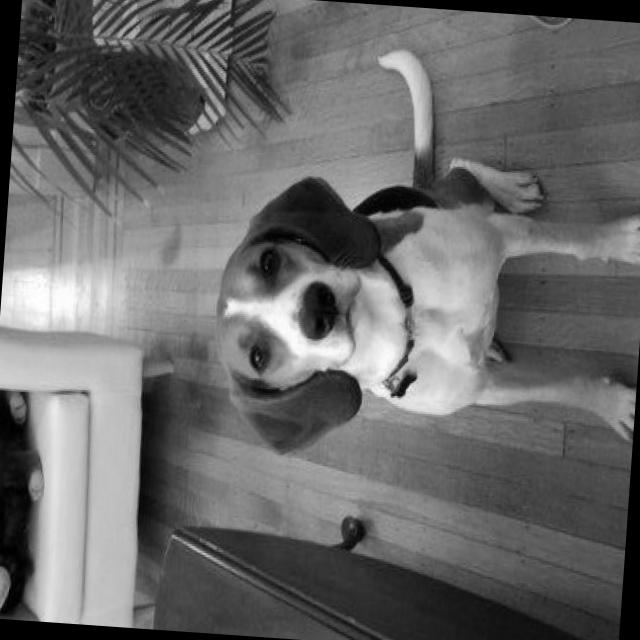sitting: (205, 29, 640, 486)
